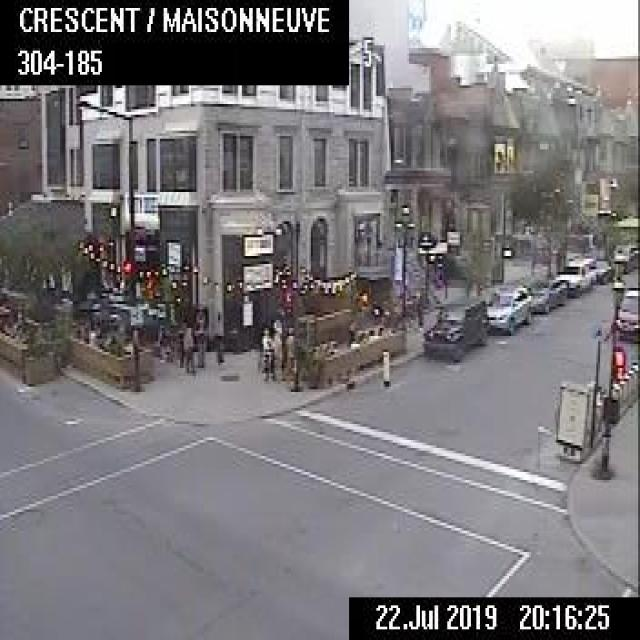pedestrian: (281, 323, 296, 378), (193, 306, 206, 366), (182, 317, 195, 372), (259, 325, 271, 379)
vehicle: (422, 295, 488, 360), (484, 282, 532, 332), (553, 259, 596, 295), (526, 276, 566, 312), (613, 286, 638, 337), (613, 240, 637, 270), (587, 257, 613, 283)
